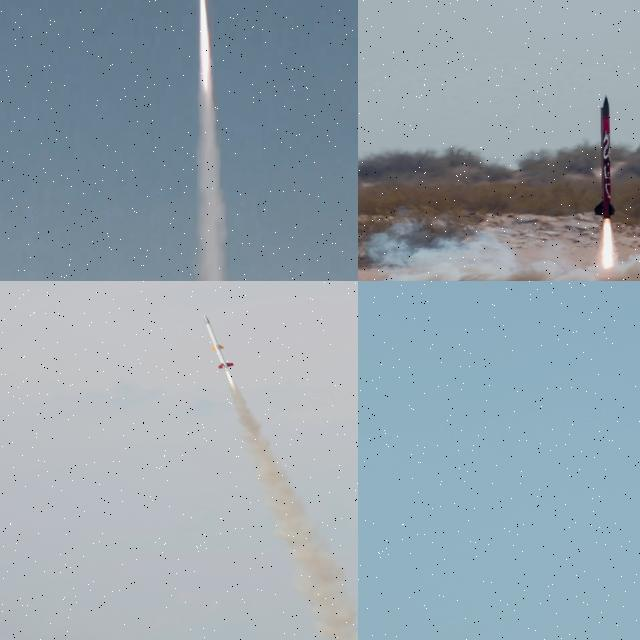Rocket: (594, 94, 616, 220), (203, 314, 235, 370)
